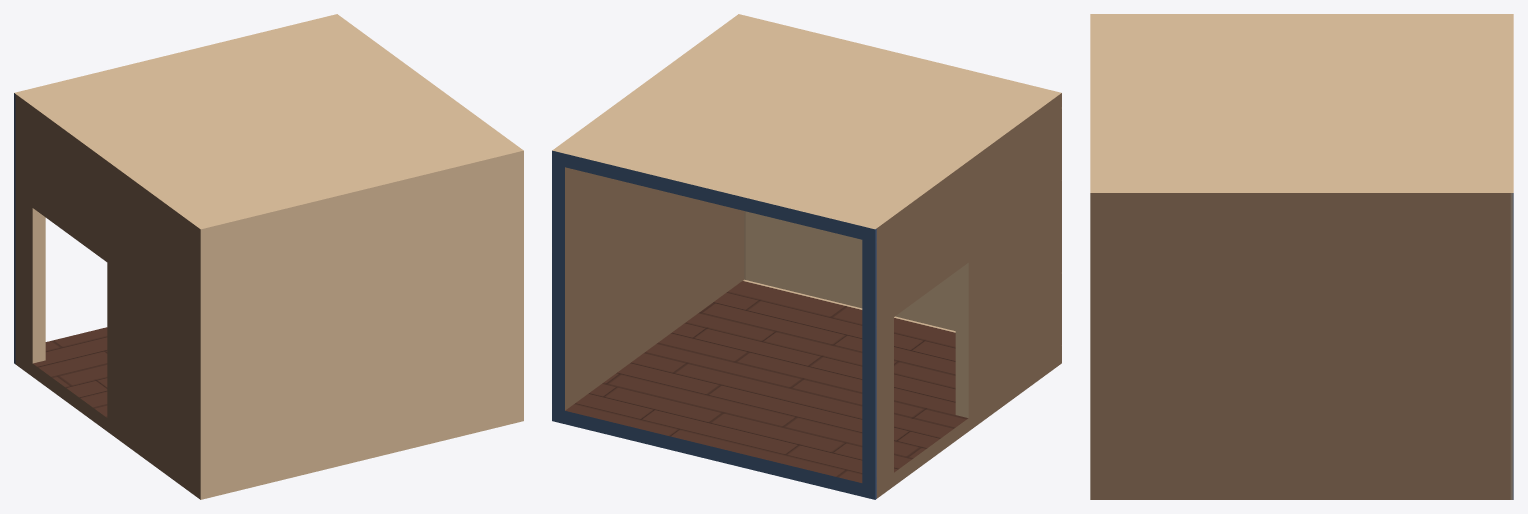
Rendered from RoomSIngle_with right HALL.fbx.
The picture shows the model from 3 angles, left to right: view 1: azimuth 30°, elevation 25°; view 2: azimuth 150°, elevation 25°; view 3: azimuth 270°, elevation 25°; orthographic projection. The views are drawn at different scales.
Visible parts, largest first — view 1: Room_2hall_RIGHT; view 2: Room_2hall_RIGHT; view 3: Room_2hall_RIGHT.
Boxes of the visible parts, x1=… form: Room_2hall_RIGHT: x1=14, y1=14, x2=523, y2=499; Room_2hall_RIGHT: x1=552, y1=14, x2=1061, y2=499; Room_2hall_RIGHT: x1=1090, y1=14, x2=1513, y2=499.
Size of the model in its own units: 500 by 400 by 500.
